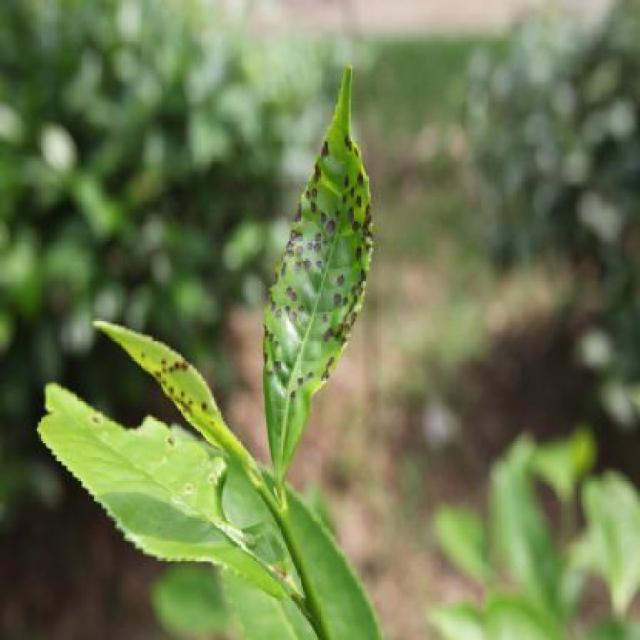Tea Mosquito bug infested leaf: (277, 94, 395, 463), (143, 343, 252, 442)
